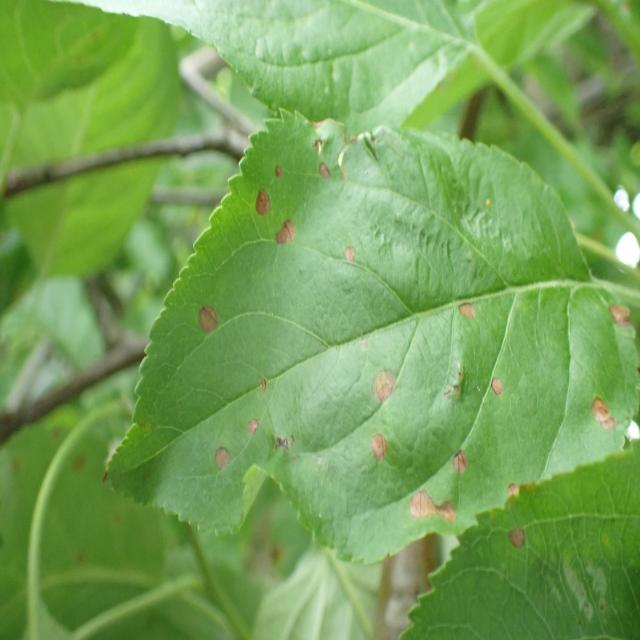Black Rot: (395, 484, 468, 534), (337, 235, 377, 289), (361, 417, 390, 488), (203, 434, 233, 488), (443, 442, 489, 477), (369, 360, 404, 404), (232, 414, 264, 462), (268, 219, 302, 263), (500, 469, 536, 510), (592, 392, 620, 444), (440, 299, 486, 329), (600, 301, 640, 335), (251, 182, 276, 227), (197, 286, 215, 344), (485, 374, 514, 410), (267, 151, 290, 193), (310, 158, 336, 190), (501, 522, 532, 548)
